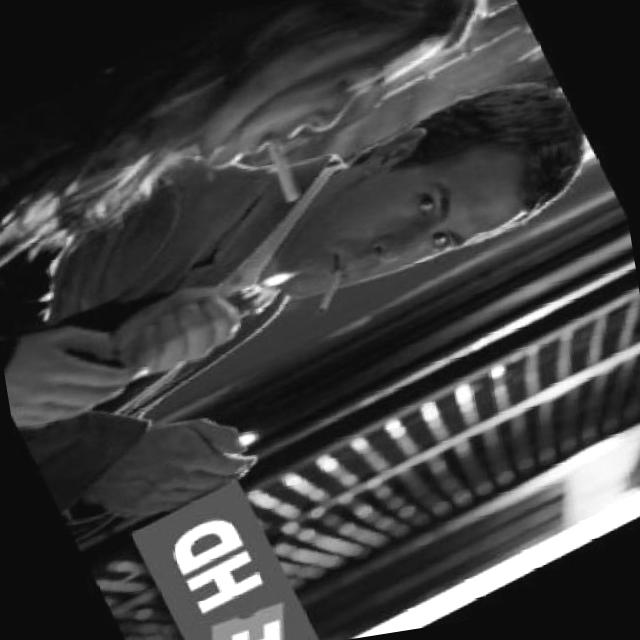smoke: (251, 129, 310, 212), (299, 264, 360, 318)
